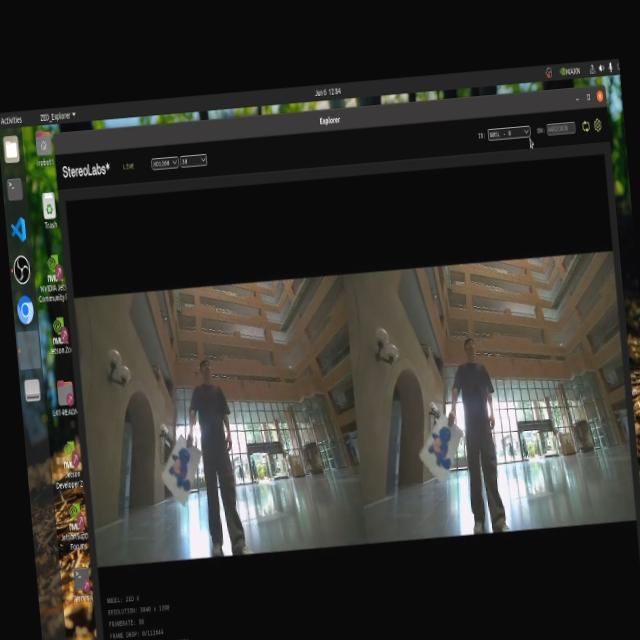blue: (420, 418, 452, 474), (163, 446, 198, 494)
